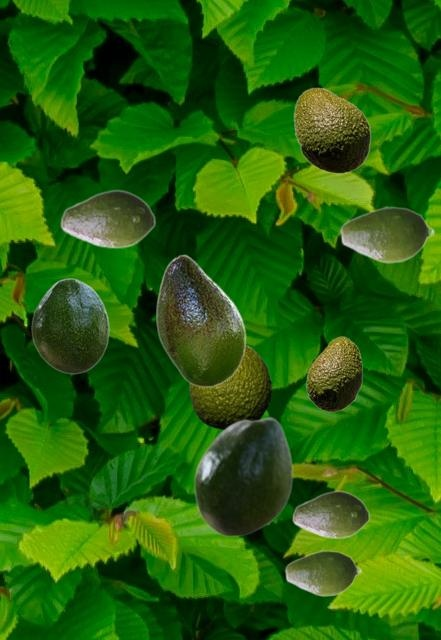avocado: (193, 416, 292, 536), (156, 254, 245, 386), (31, 278, 108, 373), (189, 344, 270, 429), (293, 87, 370, 173), (60, 189, 155, 248), (339, 205, 434, 263), (306, 336, 361, 411), (292, 490, 369, 538), (284, 549, 361, 596)
